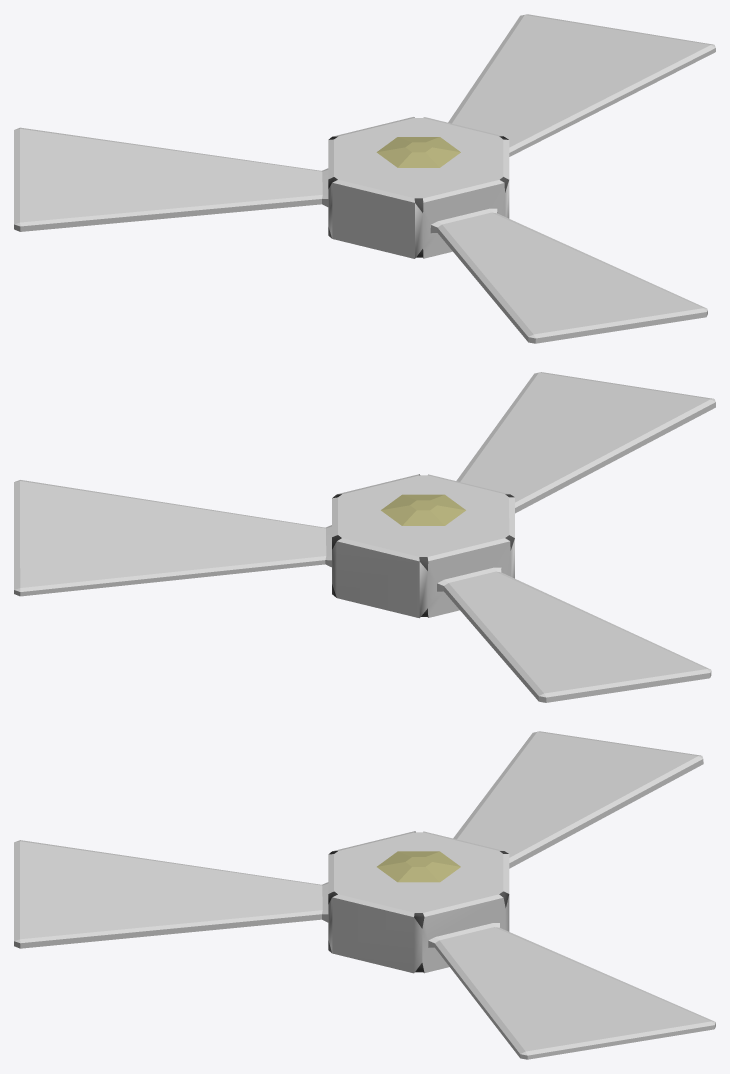
File: Fan.fbx
The picture shows the model from 3 angles, top to bottom: view 1: azimuth 30°, elevation 25°; view 2: azimuth 150°, elevation 25°; view 3: azimuth 270°, elevation 25°; orthographic projection.
Parts seen in each view (by area): view 1: Fan2; view 2: Fan2; view 3: Fan2.
Part boxes in pixels (x1,y1,x2,y2): Fan2: (14,14,715,343); Fan2: (14,372,715,702); Fan2: (14,731,715,1059).
Bounding box in the file's own units: 7.68 × 0.7405 × 6.72.
